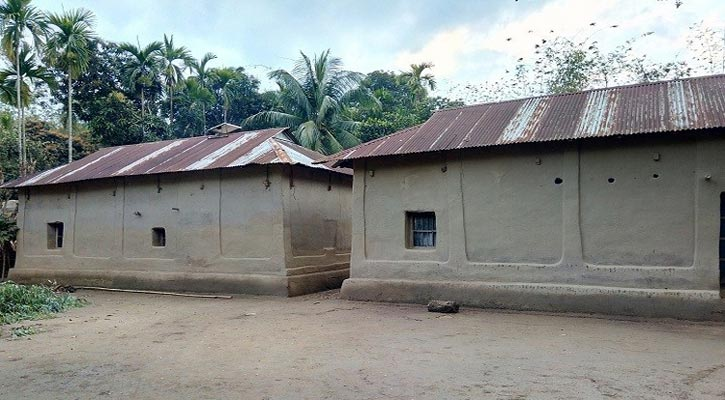Mud House: (335, 76, 724, 326), (15, 125, 340, 300)
